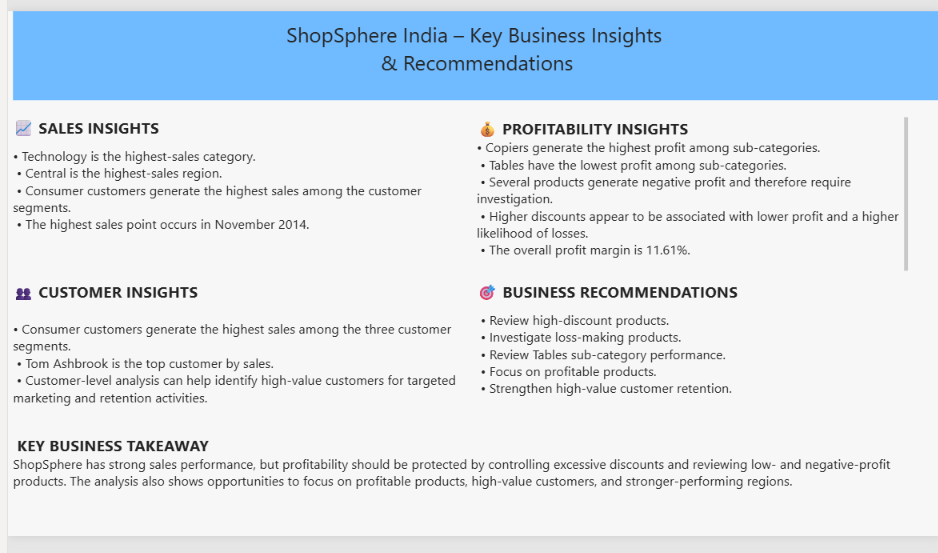

The dashboard page shown, as its layout file describes it:
{"tool":"powerbi","page":{"name":"Business Insights","canvas":[1920,1080],"ordinal":3},"visuals":[{"type":"textbox","box":[10.3,0,1910.1,183.2],"z":0},{"type":"textbox","box":[965.4,218.2,887.1,321.1],"z":1000},{"type":"textbox","box":[10.3,555.7,955.1,288.2],"z":2000},{"type":"textbox","box":[965.4,555.7,887.1,288.2],"z":3000},{"type":"textbox","box":[10.3,218.2,948.9,321.1],"z":4000},{"type":"textbox","box":[10.3,870.7,1910.1,209.9],"z":5000}]}

Visuals, with their boxes on the page's 1920x1080 design canvas (x1, y1, x2, y2). These are canvas units, not pixel positions in the 938x553 screenshot, which may show the page scaled, cropped or inside an application window:
textbox: 10/0/1920/183
textbox: 965/218/1852/539
textbox: 10/556/965/844
textbox: 965/556/1852/844
textbox: 10/218/959/539
textbox: 10/871/1920/1081
